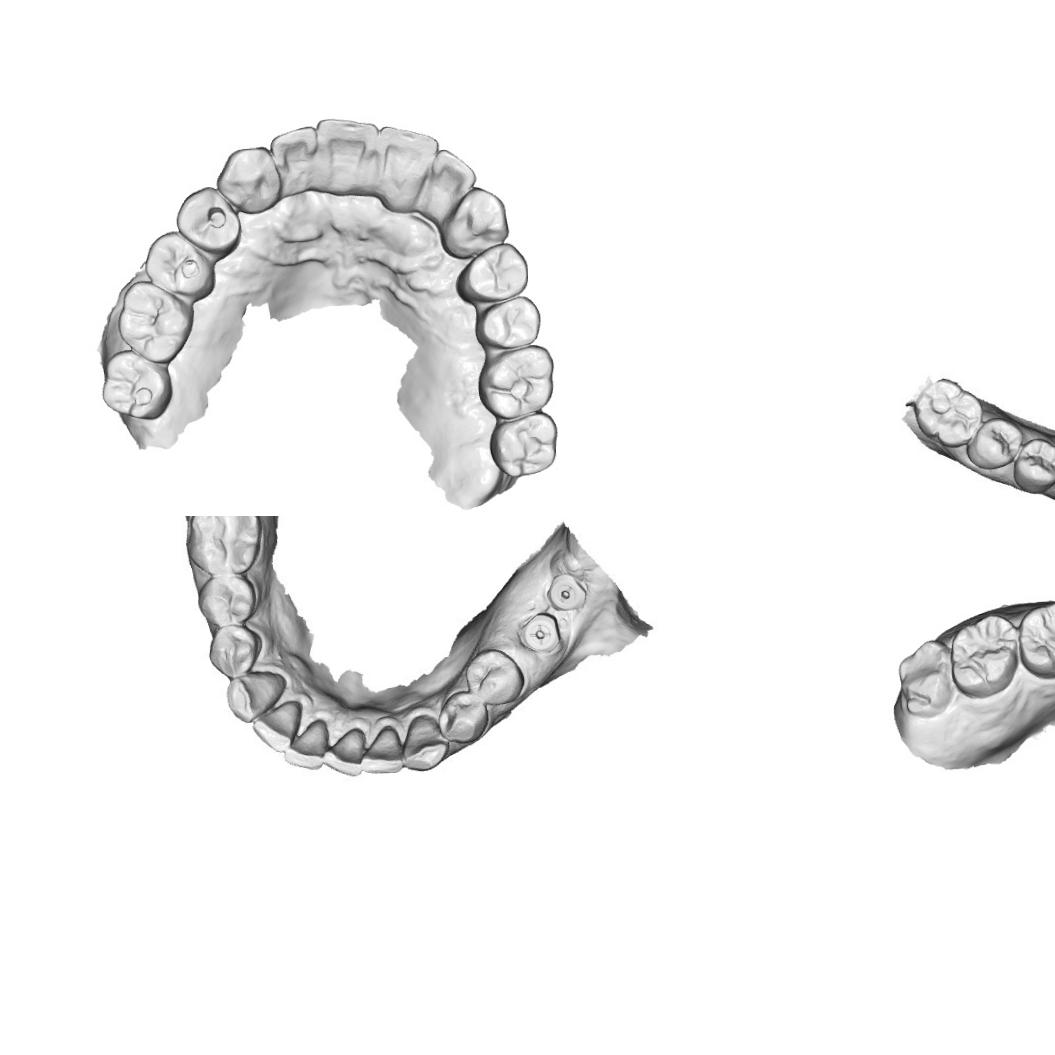canine: (442, 184, 514, 256), (215, 142, 282, 216), (224, 668, 282, 722), (402, 711, 450, 774)
implant_minus: (549, 574, 587, 614)
implant_plus: (516, 612, 557, 654)
incisor: (310, 114, 382, 197), (376, 121, 441, 201), (268, 122, 322, 198), (421, 146, 479, 212), (252, 697, 306, 753), (286, 716, 334, 771), (357, 726, 405, 777), (325, 730, 365, 776)
molar: (114, 275, 197, 366), (948, 613, 1024, 700), (476, 342, 556, 423), (98, 347, 174, 423), (912, 375, 984, 450), (893, 636, 956, 720), (488, 409, 560, 480), (189, 516, 262, 572), (1015, 598, 1055, 681)
premolar: (139, 228, 216, 303), (172, 183, 243, 258), (454, 241, 530, 308), (473, 294, 543, 352), (964, 416, 1025, 471), (207, 627, 268, 681), (470, 650, 524, 708), (440, 689, 490, 746), (204, 572, 254, 625), (1011, 436, 1055, 495)
